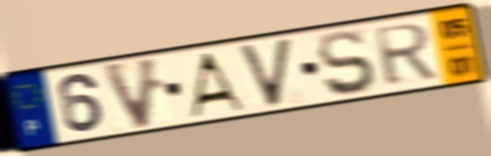6: (55, 71, 107, 136)
A: (185, 49, 247, 119)
R: (371, 21, 441, 90)
S: (315, 28, 379, 99)
V: (98, 54, 162, 133), (235, 35, 296, 111)
